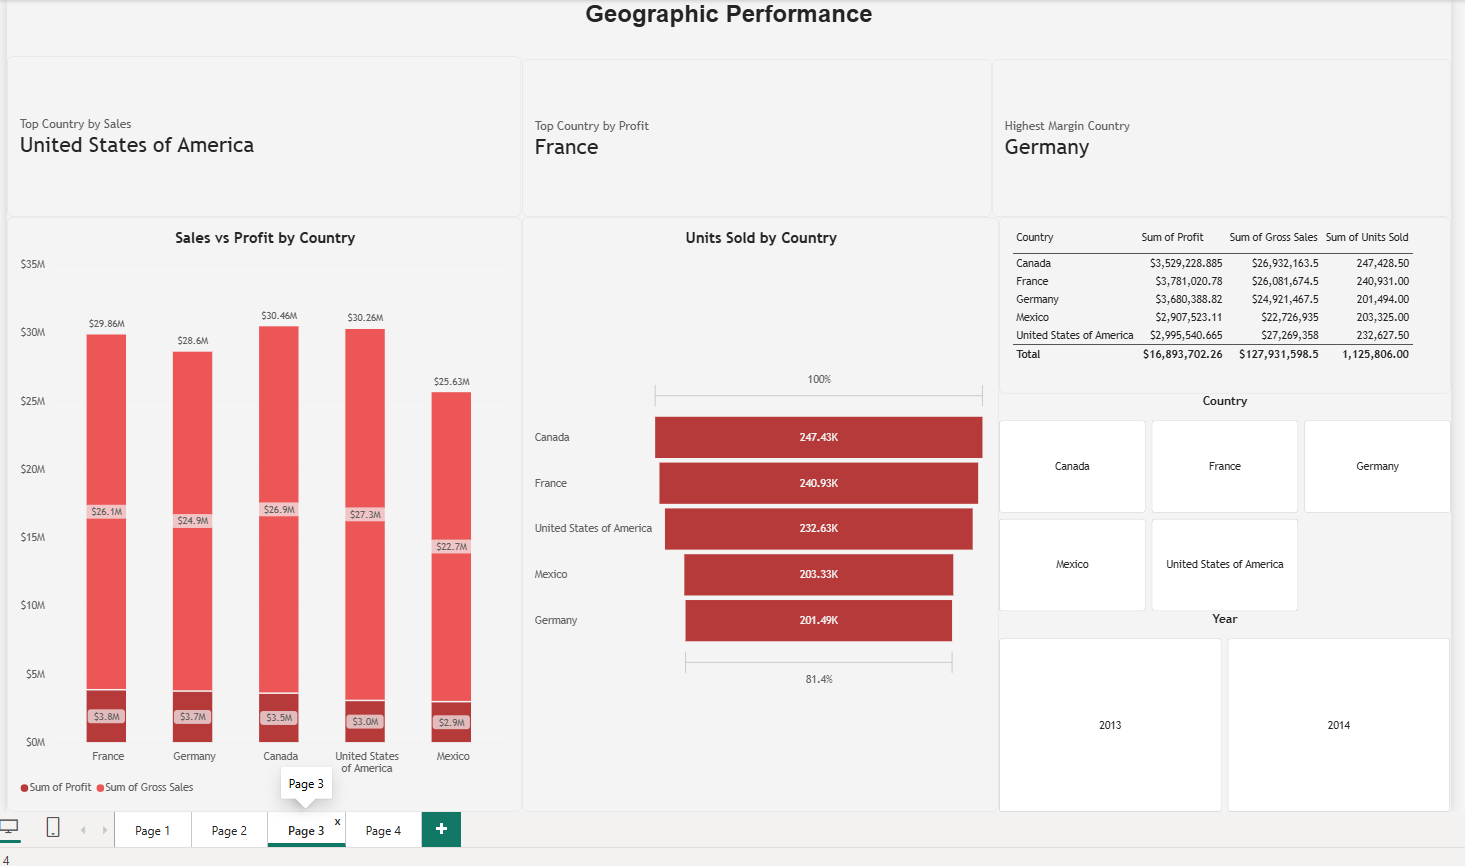

The dashboard page shown, as its layout file describes it:
{"tool":"powerbi","page":{"name":"Page 3","canvas":[1920,1080],"ordinal":2},"visuals":[{"type":"cardVisual","title":"Total Sale","fields":{"Data":["financials.Top Country by Sales"]},"box":[0,74.5,685,214.1],"z":0},{"type":"cardVisual","title":"Total Sale","fields":{"Data":["financials.Top Country by Profit"]},"box":[685,78.5,625.1,210.1],"z":1000},{"type":"cardVisual","title":"Total Sale","fields":{"Data":["financials.Highest Margin Country"]},"box":[1310.1,78.5,610.5,210.1],"z":2000},{"type":"textbox","box":[0,0,1920.6,78.5],"z":3000},{"type":"lineStackedColumnComboChart","title":"Sales vs Profit by Country","fields":{"Category":["financials.Country"],"Y":["Sum(financials.Profit)","Sum(financials.Gross Sales)"]},"box":[0,288.6,685,791.4],"z":4000},{"type":"funnel","title":"Units Sold by Country","fields":{"Category":["financials.Country"],"Y":["Sum(financials.Units Sold)"]},"box":[685,288.6,634.4,791.4],"z":5000},{"type":"tableEx","fields":{"Values":["financials.Country","Sum(financials.Profit)","financials.Gross Sales","Sum(financials.Units Sold)"]},"box":[1319.4,288.6,601.2,235.4],"z":6000},{"type":"advancedSlicerVisual","fields":{"Values":["financials.Country"]},"box":[1319.4,524,601.2,290],"z":7000},{"type":"advancedSlicerVisual","fields":{"Values":["financials.Date.Variation.Date Hierarchy.Year"]},"box":[1319.4,814,601.2,266],"z":8000}]}

Visuals, with their boxes on the page's 1920x1080 design canvas (x1, y1, x2, y2). These are canvas units, not pixel positions in the 1465x866 screenshot, which may show the page scaled, cropped or inside an application window:
"Total Sale" cardVisual: bbox=(0, 74, 685, 289)
"Total Sale" cardVisual: bbox=(685, 78, 1310, 289)
"Total Sale" cardVisual: bbox=(1310, 78, 1921, 289)
textbox: bbox=(0, 0, 1921, 78)
"Sales vs Profit by Country" lineStackedColumnComboChart: bbox=(0, 289, 685, 1080)
"Units Sold by Country" funnel: bbox=(685, 289, 1319, 1080)
tableEx - financials.Country x Sum(financials.Profit): bbox=(1319, 289, 1921, 524)
advancedSlicerVisual - financials.Country: bbox=(1319, 524, 1921, 814)
advancedSlicerVisual - financials.Date.Variation.Date Hierarchy.Year: bbox=(1319, 814, 1921, 1080)
